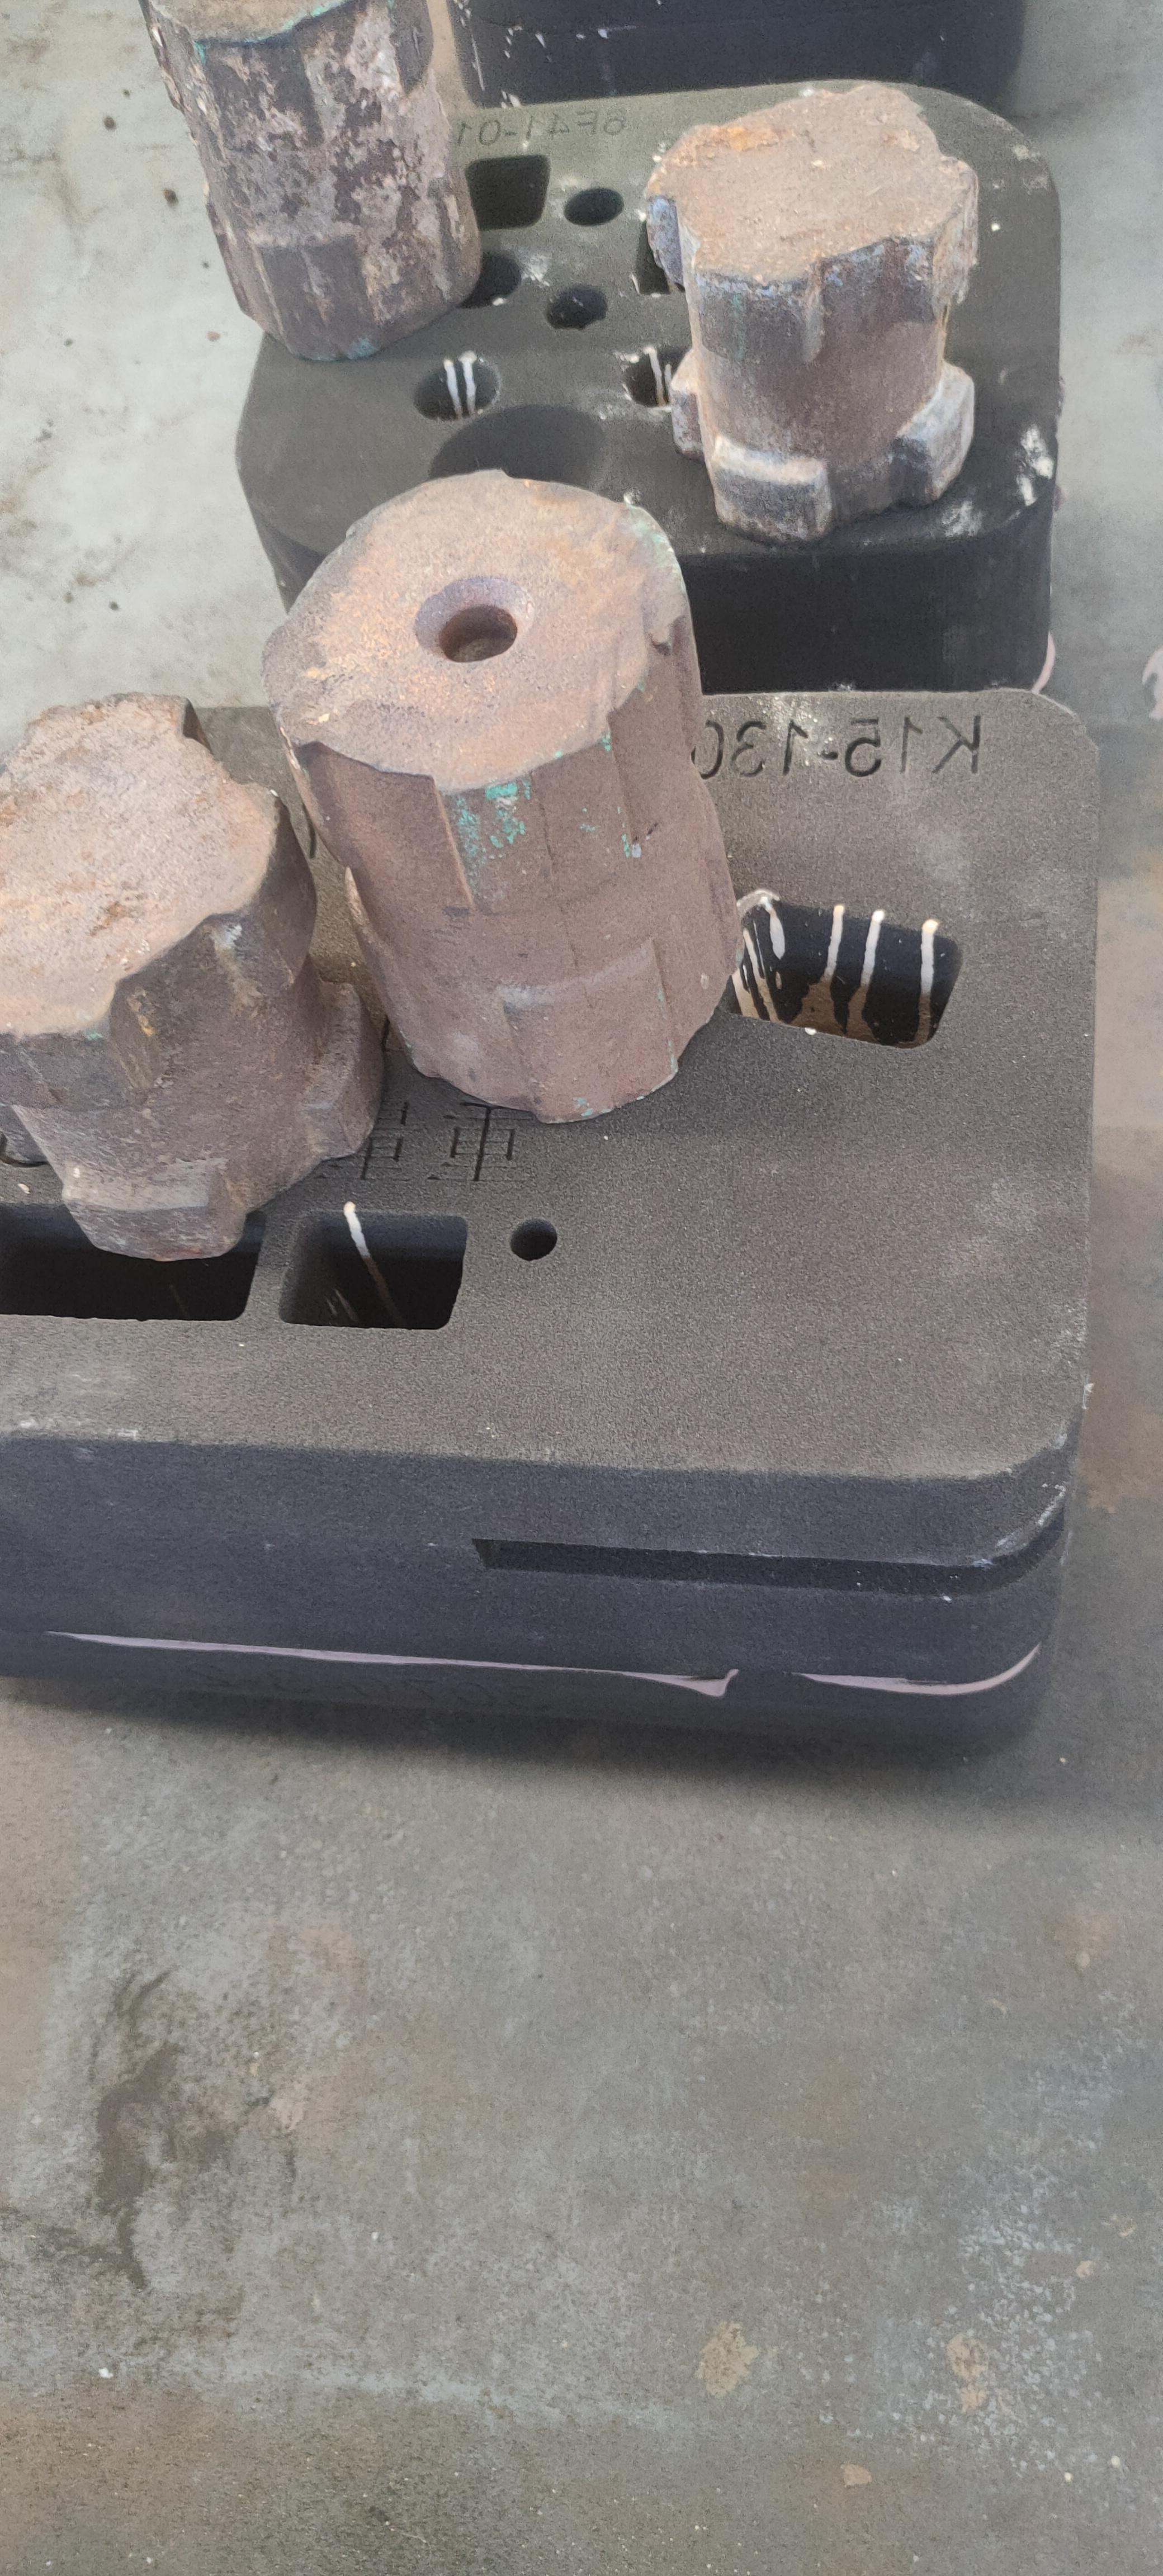pouring hole: (424, 401, 608, 534)
